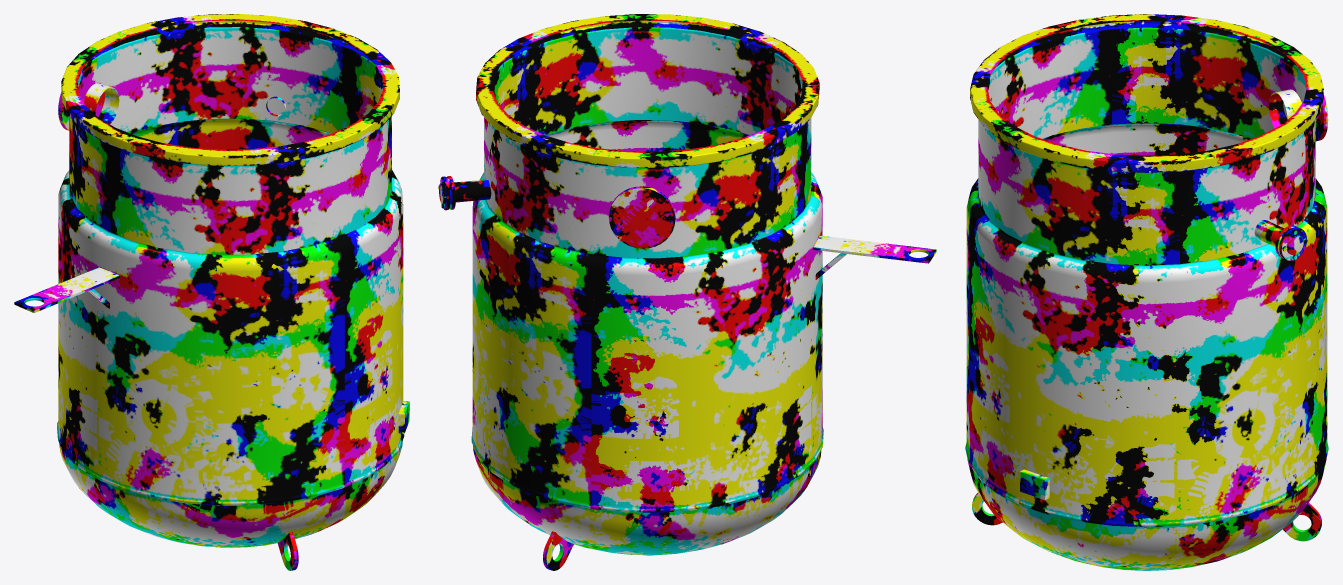
Rendered from sm_Container_Body_01_02.fbx.
3 views of the same model, side by side, from view 1: azimuth 30°, elevation 25°; view 2: azimuth 150°, elevation 25°; view 3: azimuth 270°, elevation 25° (orthographic). The views are drawn at different scales.
Visible parts, largest first — view 1: sm_Container_Body_01_02_LOD0; view 2: sm_Container_Body_01_02_LOD0; view 3: sm_Container_Body_01_02_LOD0.
Boxes of the visible parts, x1,y1,x2,y2 form: sm_Container_Body_01_02_LOD0: (14, 14, 409, 570); sm_Container_Body_01_02_LOD0: (438, 14, 936, 570); sm_Container_Body_01_02_LOD0: (965, 14, 1328, 570).
Bounding box in the file's own units: 202 × 153 × 211.
